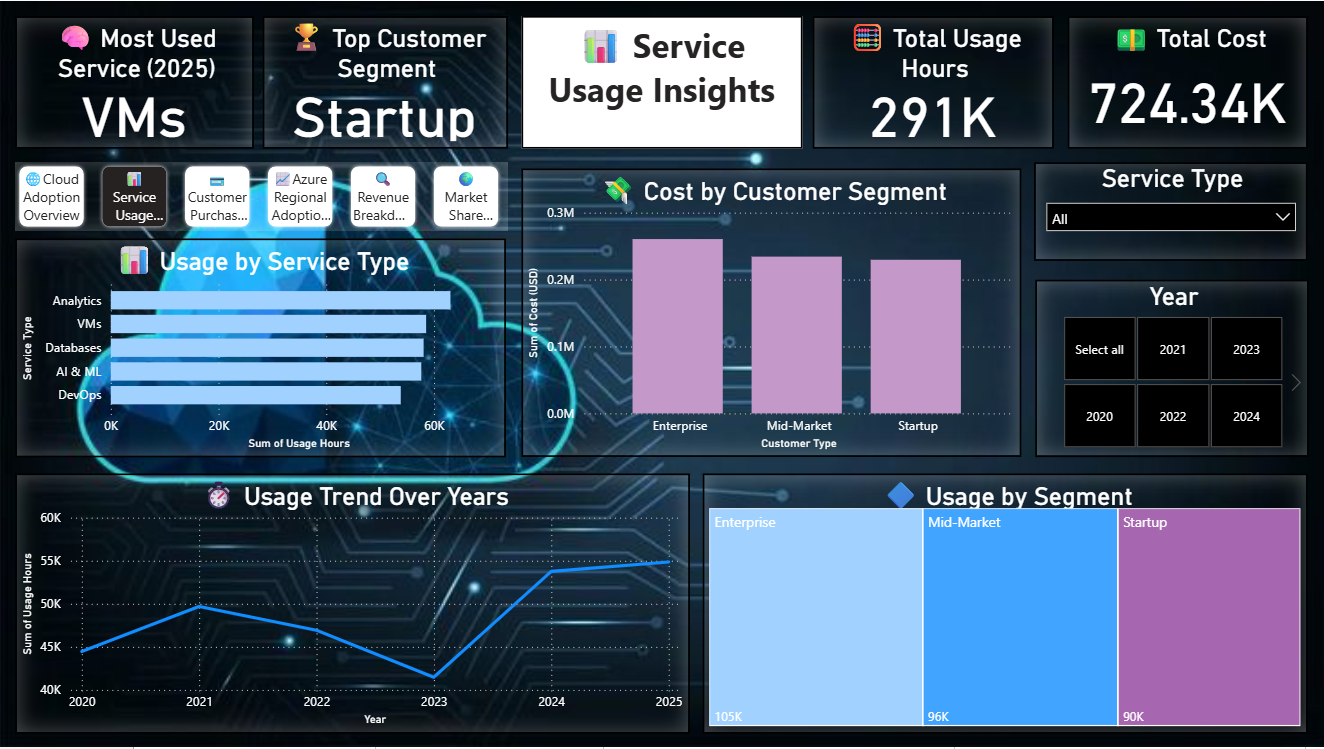

What the dashboard file says about the page in this screenshot:
{"tool":"powerbi","page":{"name":"📊 Service Usage Insights","canvas":[1280,720],"ordinal":1},"visuals":[{"type":"card","title":"🧠 Most Used Service (2025)","fields":{"Values":["azure_services_usage_extended.MostUsedService"]},"box":[15.7,14.5,230.4,127.9],"z":0},{"type":"card","title":"🏆 Top Customer Segment","fields":{"Values":["azure_services_usage_extended.Top Customer Segment"]},"box":[254.6,14.5,236.5,127.9],"z":1000},{"type":"clusteredBarChart","title":"📊 Usage by Service Type","fields":{"Category":["azure_services_usage_extended.Service Type"],"Y":["Sum(azure_services_usage_extended.Usage Hours)"]},"box":[16.2,228.8,473.8,211.2],"z":2000},{"type":"columnChart","title":"💸 Cost by Customer Segment","fields":{"Category":["azure_services_usage_extended.Customer Type"],"Y":["Sum(azure_services_usage_extended.Cost (USD))"]},"box":[503.8,161.2,482.5,278.8],"z":3000},{"type":"lineChart","title":"⏱️ Usage Trend Over Years","fields":{"Category":["azure_services_usage_extended.Year"],"Y":["Sum(azure_services_usage_extended.Usage Hours)"]},"box":[16.2,456.2,651.2,251.2],"z":4000},{"type":"treemap","title":"🔷 Usage by Segment","fields":{"Group":["azure_services_usage_extended.Customer Type"],"Values":["Sum(azure_services_usage_extended.Usage Hours)"]},"box":[679.5,455.9,584.3,251],"z":5000},{"type":"card","title":"🧮 Total Usage Hours","fields":{"Values":["Sum(azure_services_usage_extended.Usage Hours)"]},"box":[785.4,14.5,232.8,127.9],"z":6000},{"type":"card","title":"💵 Total Cost","fields":{"Values":["Sum(azure_services_usage_extended.Cost (USD))"]},"box":[1031.5,14.5,231.6,127.9],"z":7000},{"type":"slicer","title":"Year","fields":{"Values":["azure_revenue_extended.Year"]},"box":[1000.1,269,264.2,171.3],"z":8000},{"type":"slicer","title":"Service Type","fields":{"Values":["azure_services_usage_extended.Service Type"]},"box":[998.9,155.6,264.2,95.3],"z":9000},{"type":"textbox","box":[504.3,14.5,271.4,127.9],"z":10000},{"type":"pageNavigator","box":[15.7,155.6,475.3,66.4],"z":11000}]}

Visuals, with their boxes in screenshot pixels (x1, y1, x2, y2), scaled from the page's 1280x720 canvas onto the 1324x749 screenshot:
"🧠 Most Used Service (2025)" card: <bbox>16, 15, 255, 148</bbox>
"🏆 Top Customer Segment" card: <bbox>263, 15, 508, 148</bbox>
"📊 Usage by Service Type" clusteredBarChart: <bbox>17, 238, 507, 458</bbox>
"💸 Cost by Customer Segment" columnChart: <bbox>521, 168, 1020, 458</bbox>
"⏱️ Usage Trend Over Years" lineChart: <bbox>17, 475, 690, 736</bbox>
"🔷 Usage by Segment" treemap: <bbox>703, 474, 1307, 735</bbox>
"🧮 Total Usage Hours" card: <bbox>812, 15, 1053, 148</bbox>
"💵 Total Cost" card: <bbox>1067, 15, 1307, 148</bbox>
"Year" slicer: <bbox>1034, 280, 1308, 458</bbox>
"Service Type" slicer: <bbox>1033, 162, 1307, 261</bbox>
textbox: <bbox>522, 15, 802, 148</bbox>
pageNavigator: <bbox>16, 162, 508, 231</bbox>
